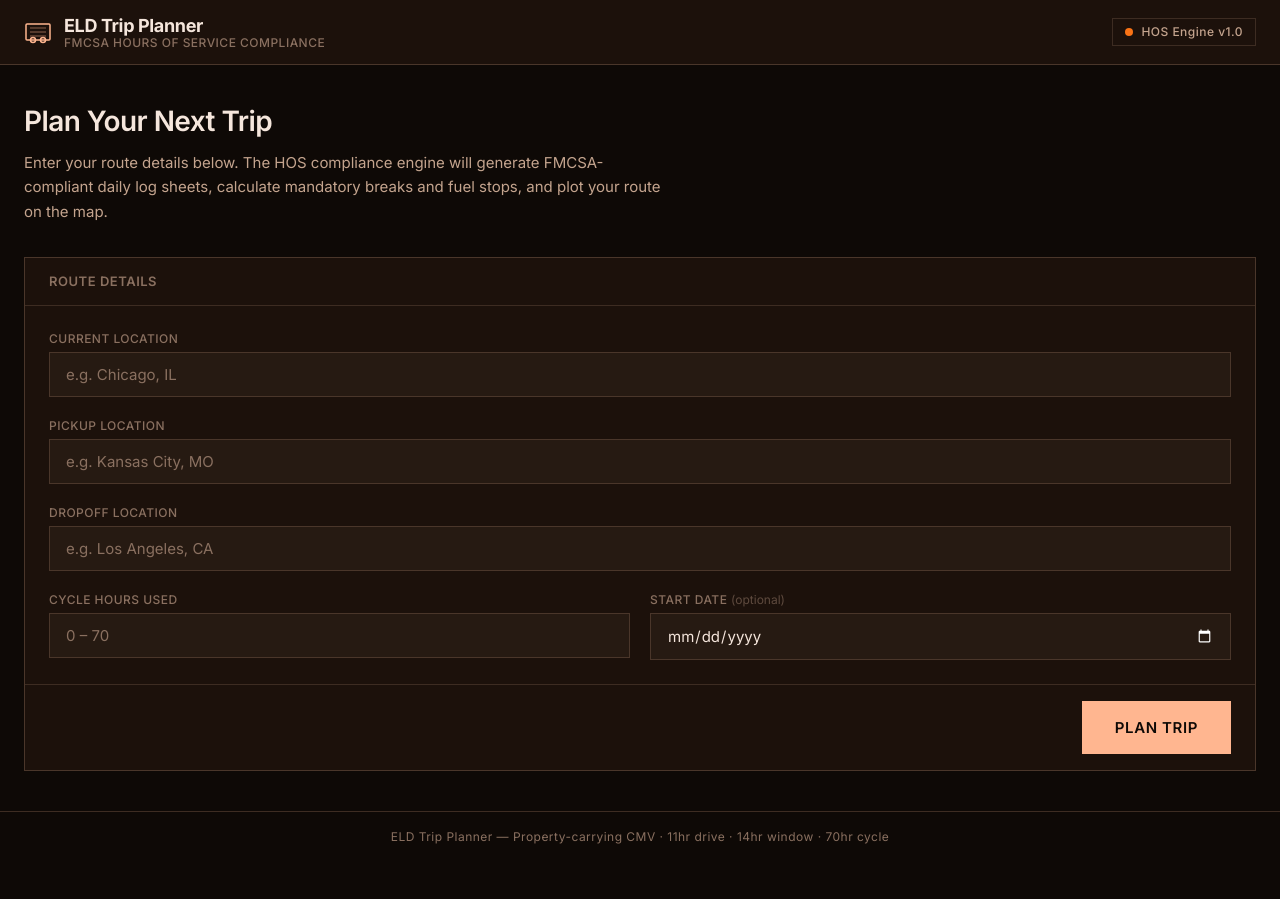
Scenario: App › flattens validation details from the typed error schema
In the field labelled "Current Location": (640, 375) left=49, top=352, right=1231, bottom=397, type "Chicago, IL"
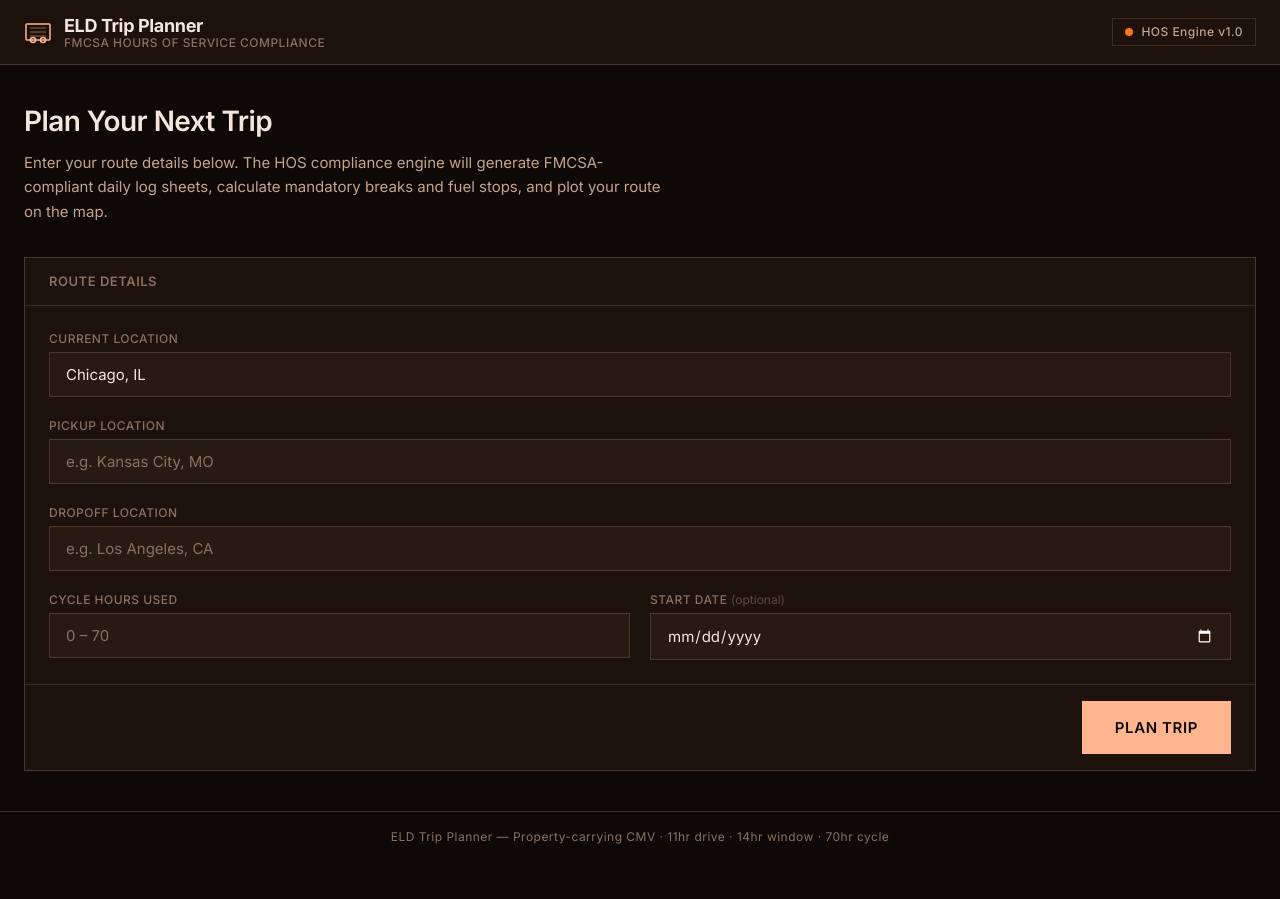
In the field labelled "Pickup Location": (640, 462) left=49, top=439, right=1231, bottom=484, type "Kansas City, MO"
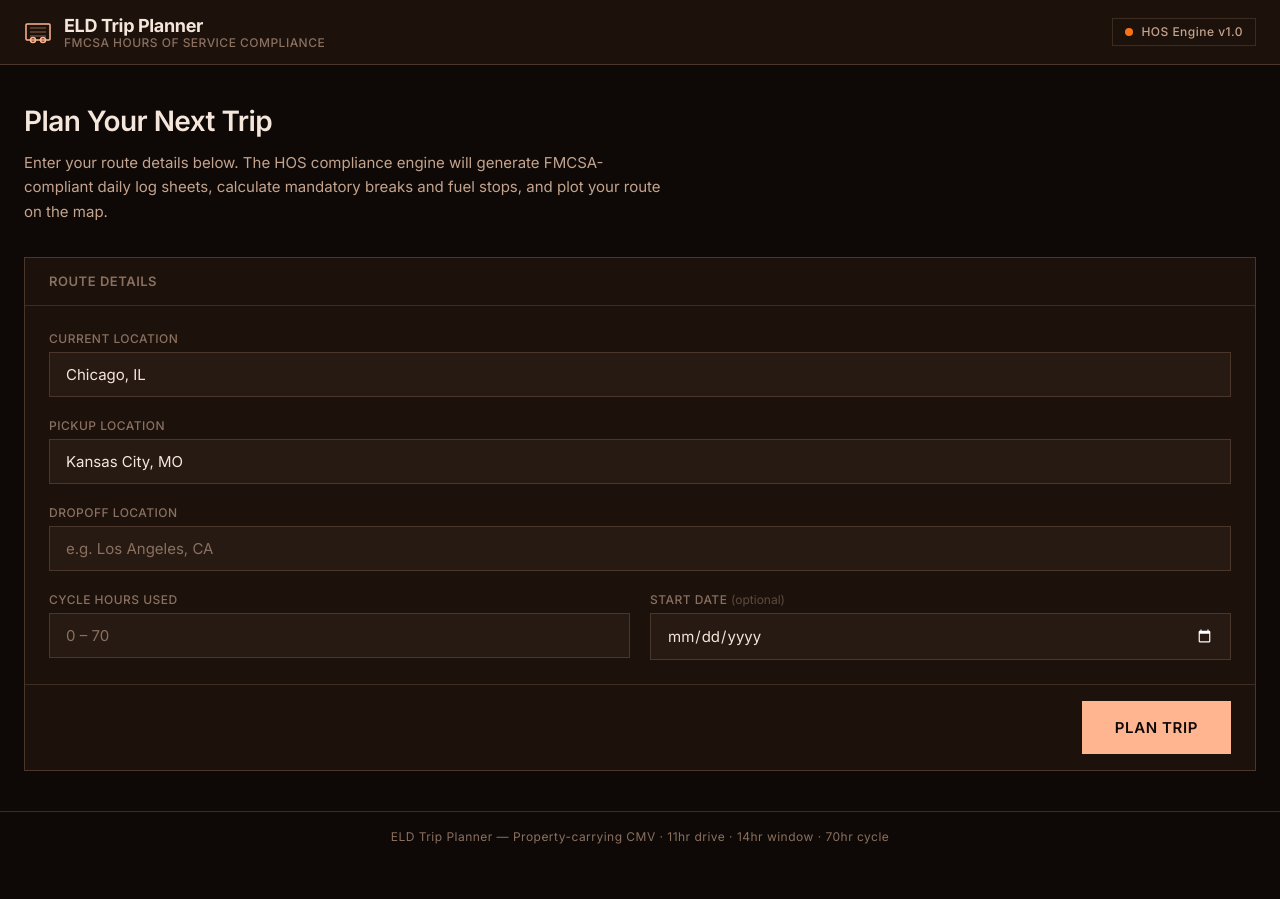
In the field labelled "Dropoff Location": (640, 549) left=49, top=526, right=1231, bottom=571, type "Los Angeles, CA"
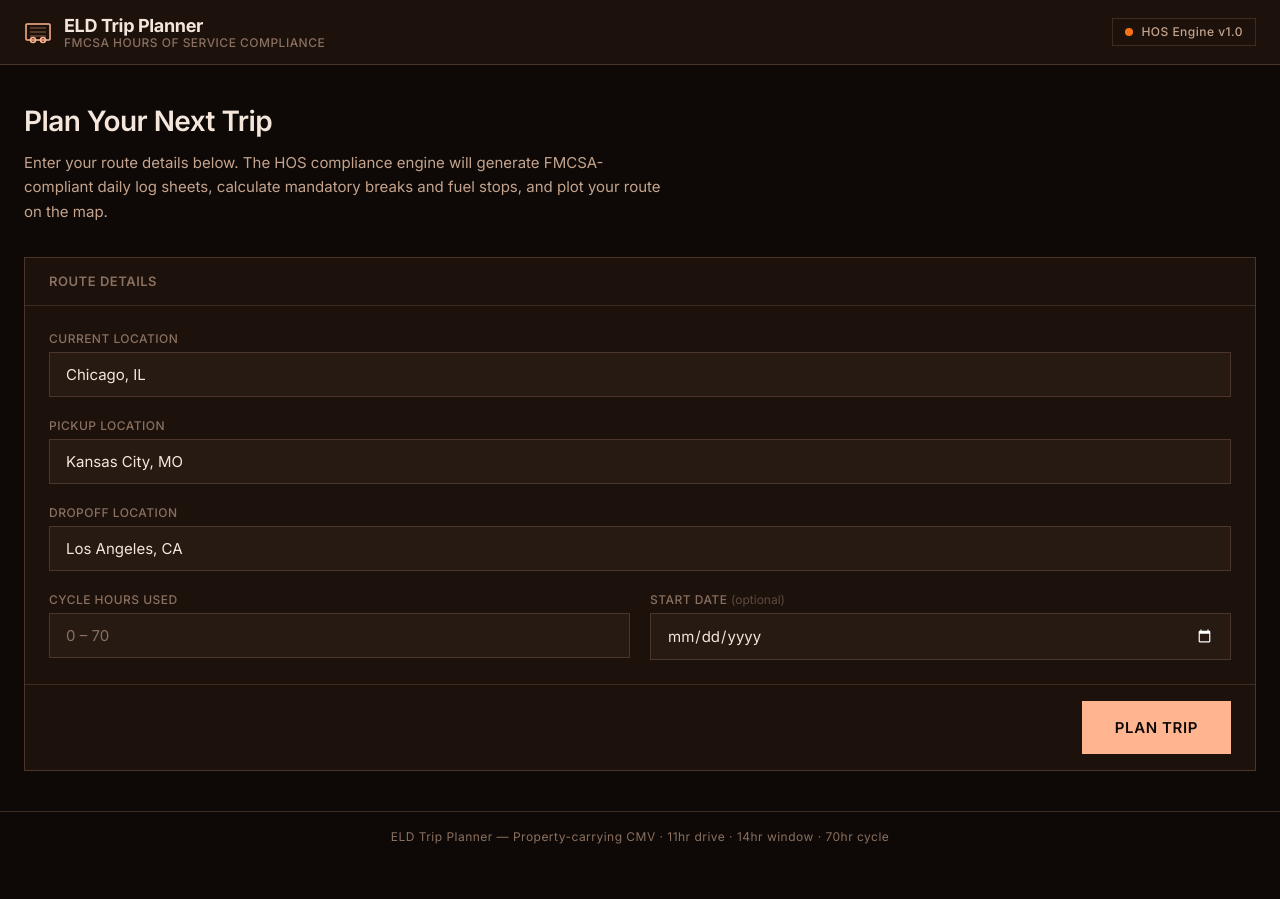
In the number field labelled "Cycle Hours Used": (340, 636) left=49, top=613, right=630, bottom=658, type "20"
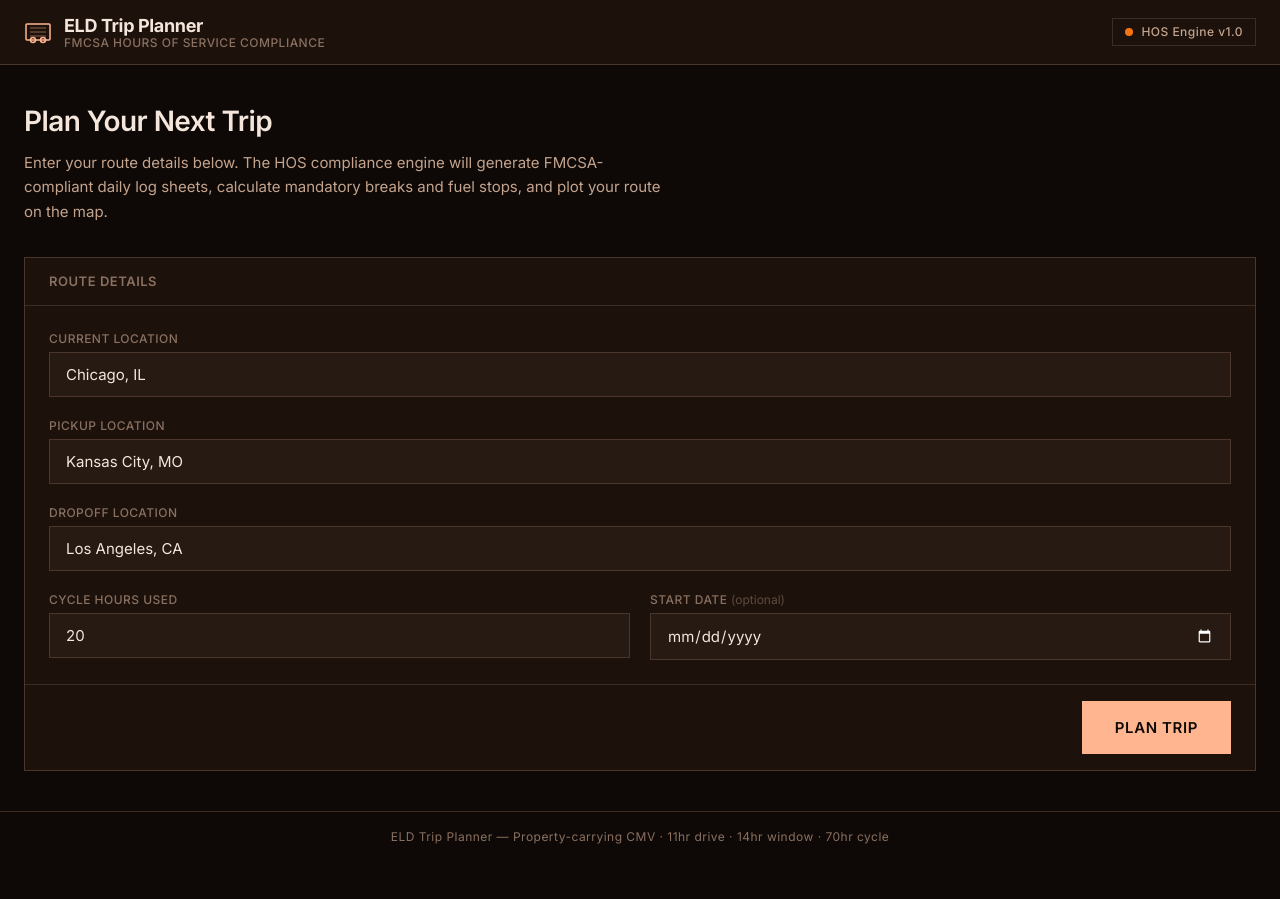
Click the button "Plan Trip": (1156, 728) left=1082, top=701, right=1231, bottom=754
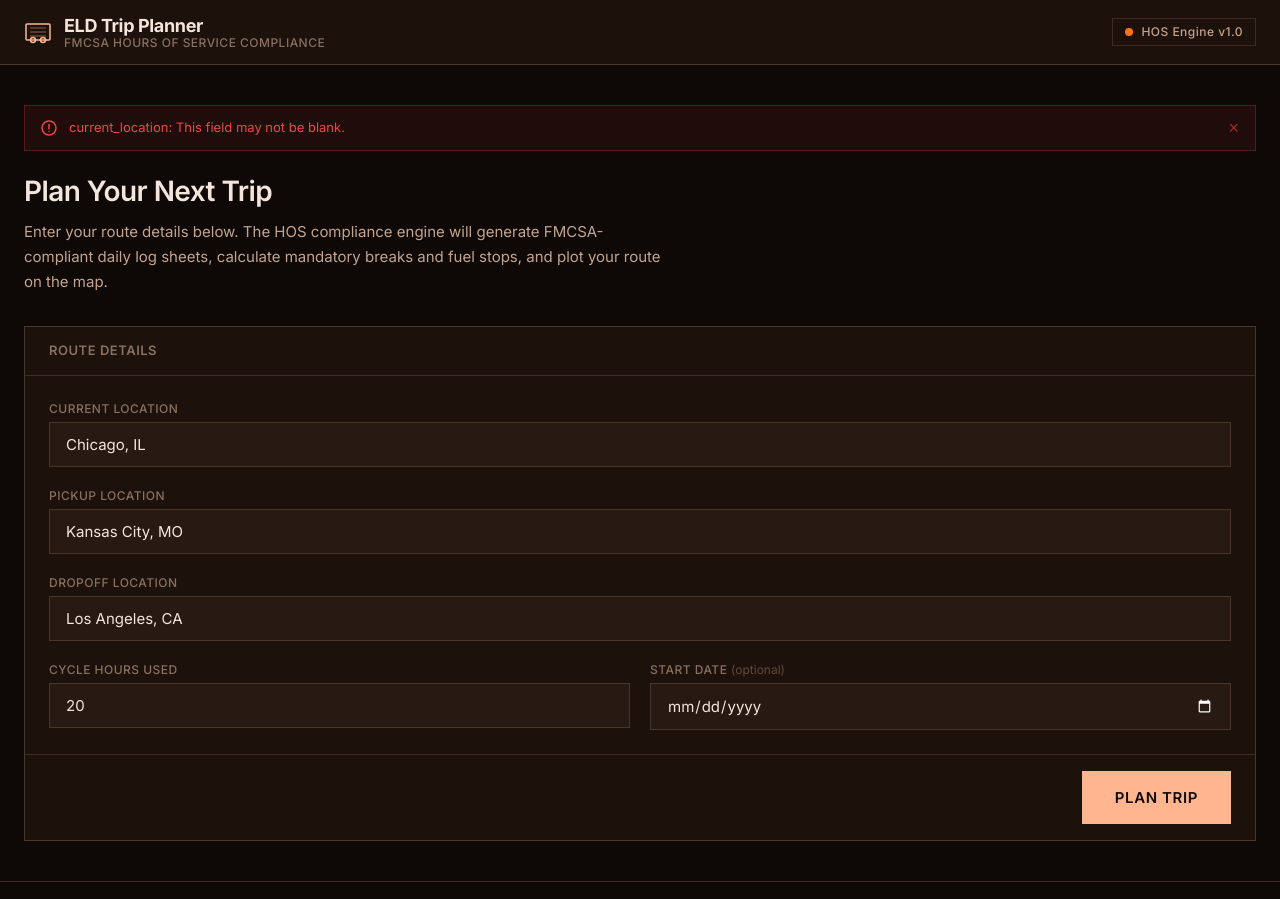
Check: the text "current_location: This field may not be blank." is shown, box left=69, top=118, right=345, bottom=138
